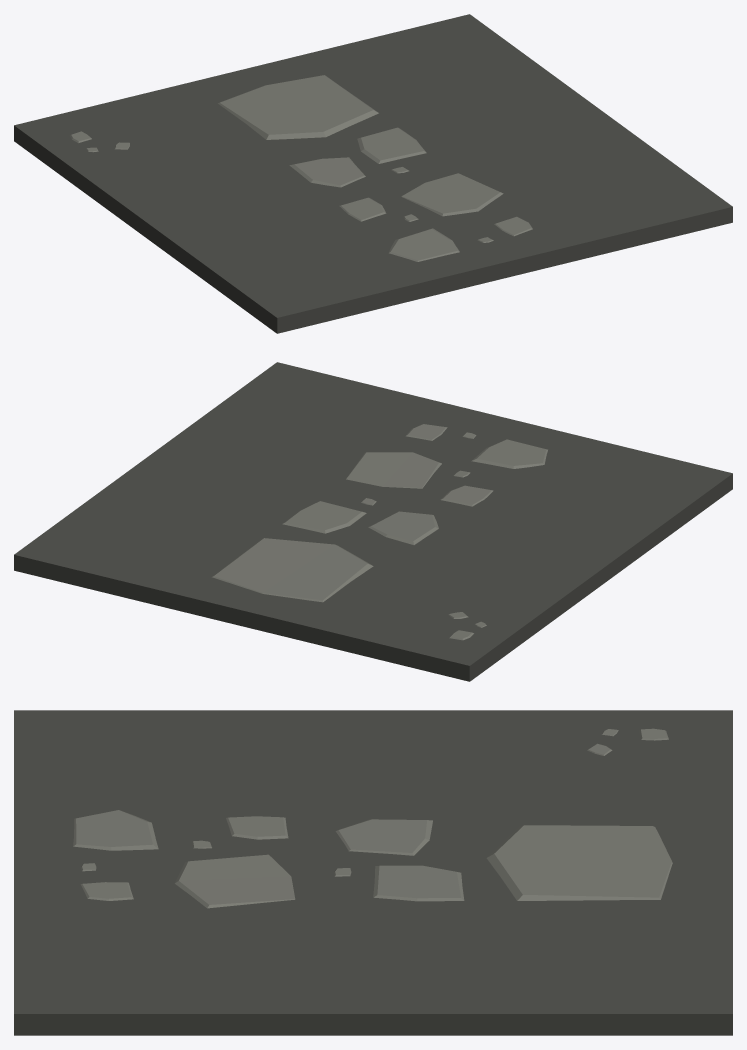
The model's file is floor_3.glb.
The picture shows the model from 3 angles, top to bottom: view 1: azimuth 30°, elevation 25°; view 2: azimuth 150°, elevation 25°; view 3: azimuth 270°, elevation 25°; orthographic projection. The views are drawn at different scales.
Parts seen in each view (by area): view 1: Floor_3; view 2: Floor_3; view 3: Floor_3.
Boxes of the visible parts, left/top/right/bottom form: Floor_3: left=14, top=14, right=732, bottom=333; Floor_3: left=14, top=362, right=732, bottom=681; Floor_3: left=14, top=710, right=732, bottom=1035.
Bounding box in the file's own units: 3 × 0.1207 × 3.
Materials: 1 (1 with a texture image).
